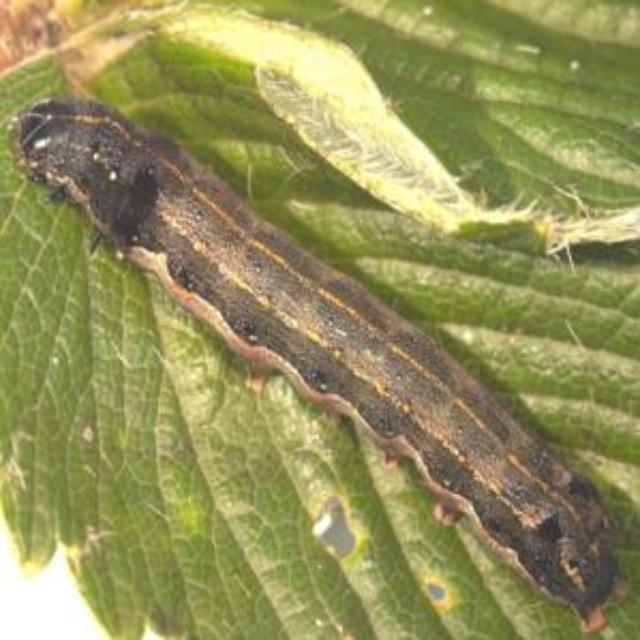Tobacco cutworm: (11, 64, 640, 608)
